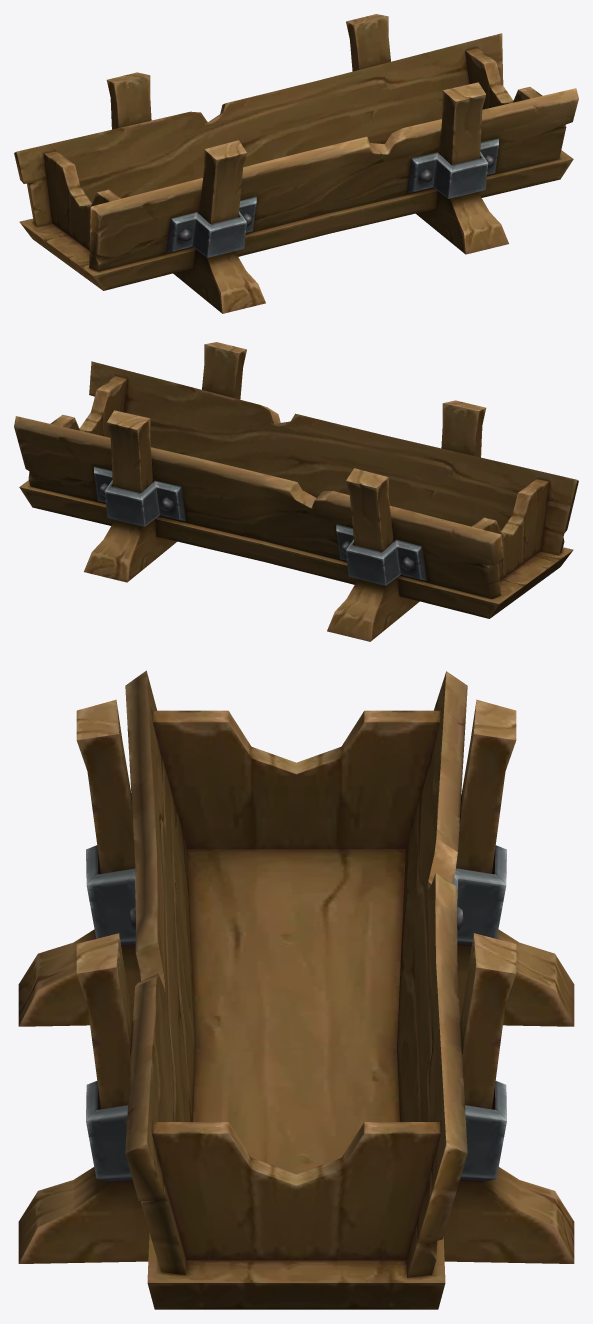
The picture shows the model from 3 angles, top to bottom: view 1: azimuth 30°, elevation 25°; view 2: azimuth 150°, elevation 25°; view 3: azimuth 270°, elevation 25°; orthographic projection. The views are drawn at different scales.
Size of the model in its own units: 7.75 by 2.21 by 3.83.
1 material, 1 textured.
